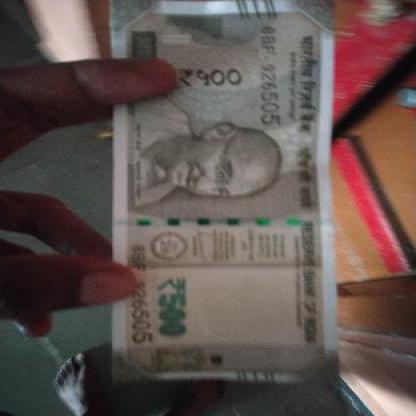New500Front: (105, 0, 336, 376)
